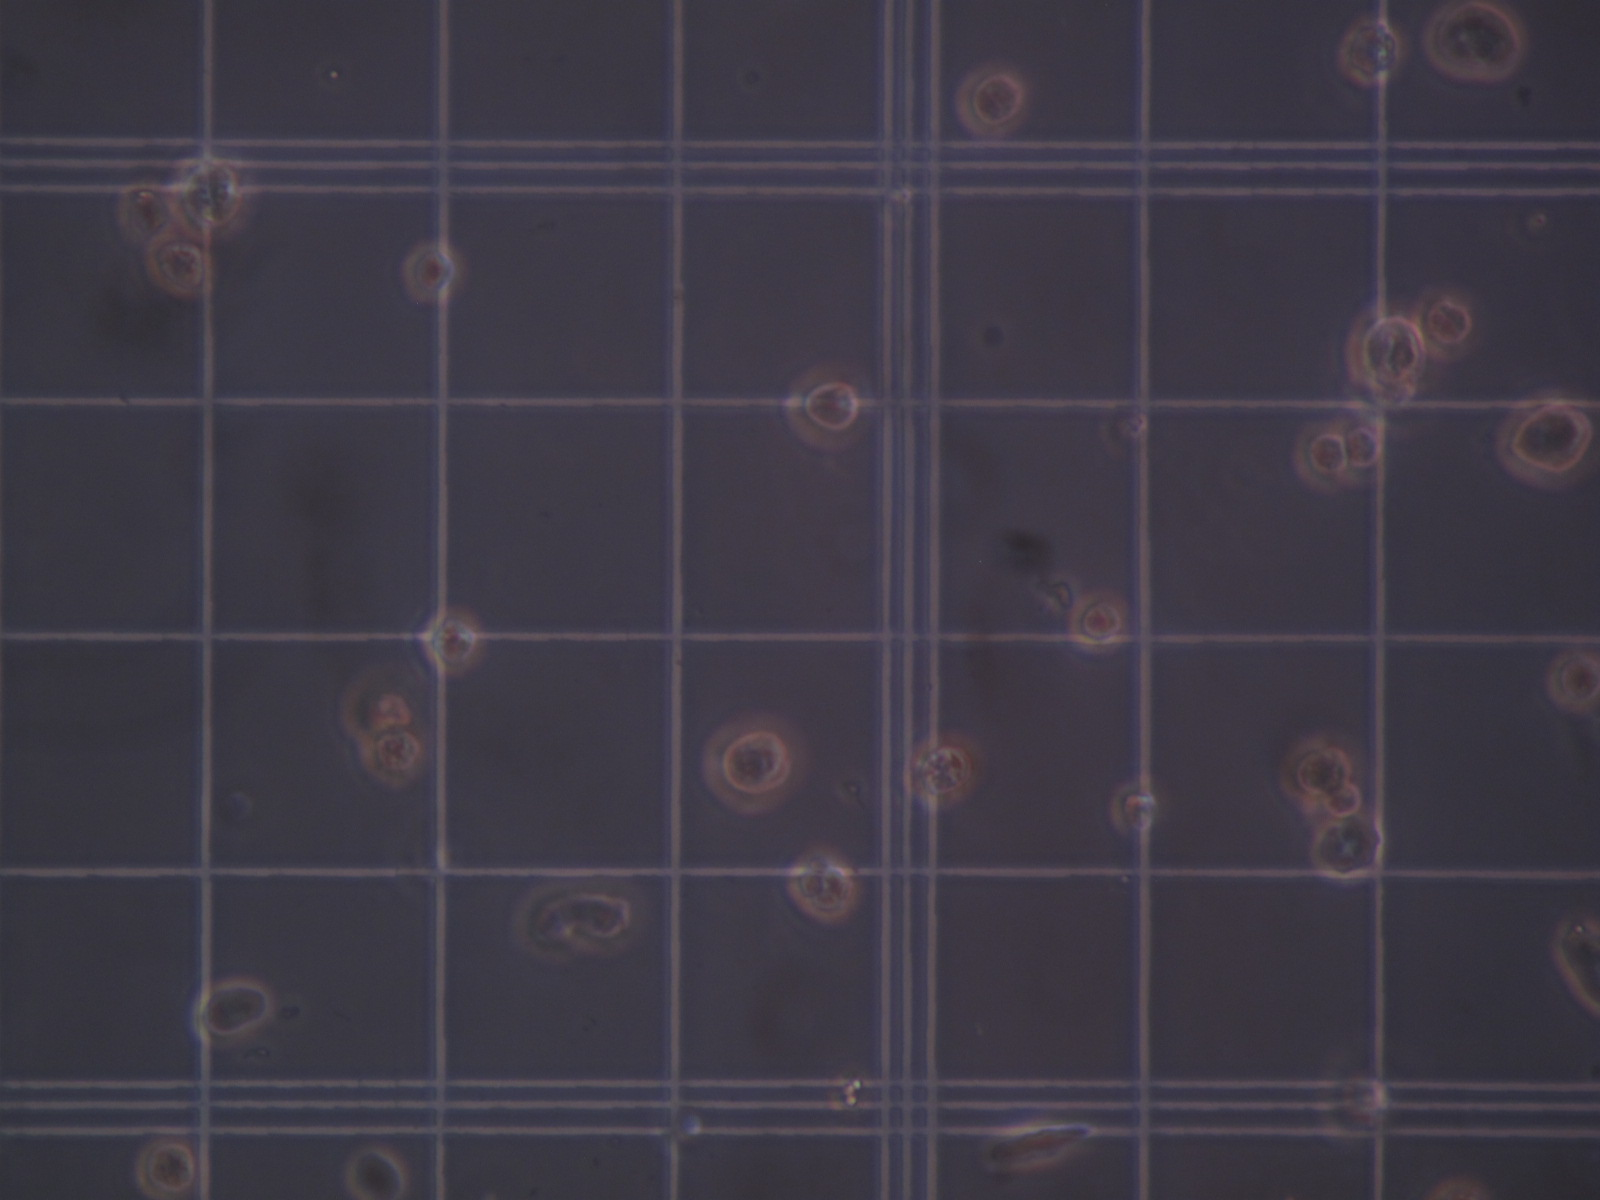hemo: (1495, 387, 1594, 489), (700, 710, 797, 812), (784, 362, 878, 451), (1422, 1, 1521, 84), (1343, 305, 1430, 395), (566, 877, 648, 964), (503, 882, 581, 971), (169, 156, 248, 239), (1317, 1053, 1385, 1146), (952, 61, 1032, 139), (189, 974, 272, 1047), (981, 1116, 1094, 1170), (907, 730, 981, 808), (339, 664, 414, 739), (1280, 736, 1353, 808), (1551, 913, 1600, 1018), (1311, 816, 1386, 884), (1412, 284, 1475, 363), (787, 848, 855, 916), (418, 608, 485, 677), (1332, 412, 1391, 489), (1294, 416, 1353, 492), (147, 233, 215, 299), (135, 1137, 205, 1200), (358, 727, 422, 790), (1340, 19, 1401, 84), (116, 184, 175, 245), (344, 1146, 409, 1200), (1545, 650, 1600, 711), (407, 243, 462, 303), (1070, 590, 1124, 650), (1107, 782, 1160, 837), (1319, 788, 1368, 821)
